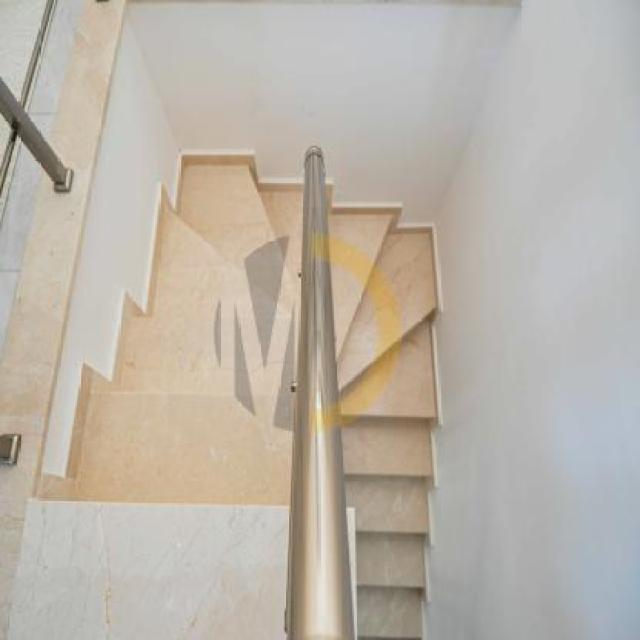stair: (28, 139, 470, 639)
